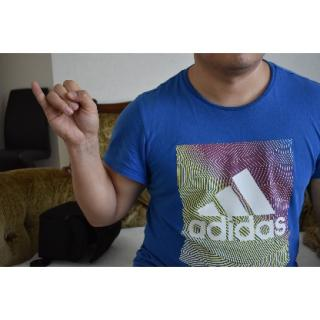MEEM: (29, 76, 102, 148)
